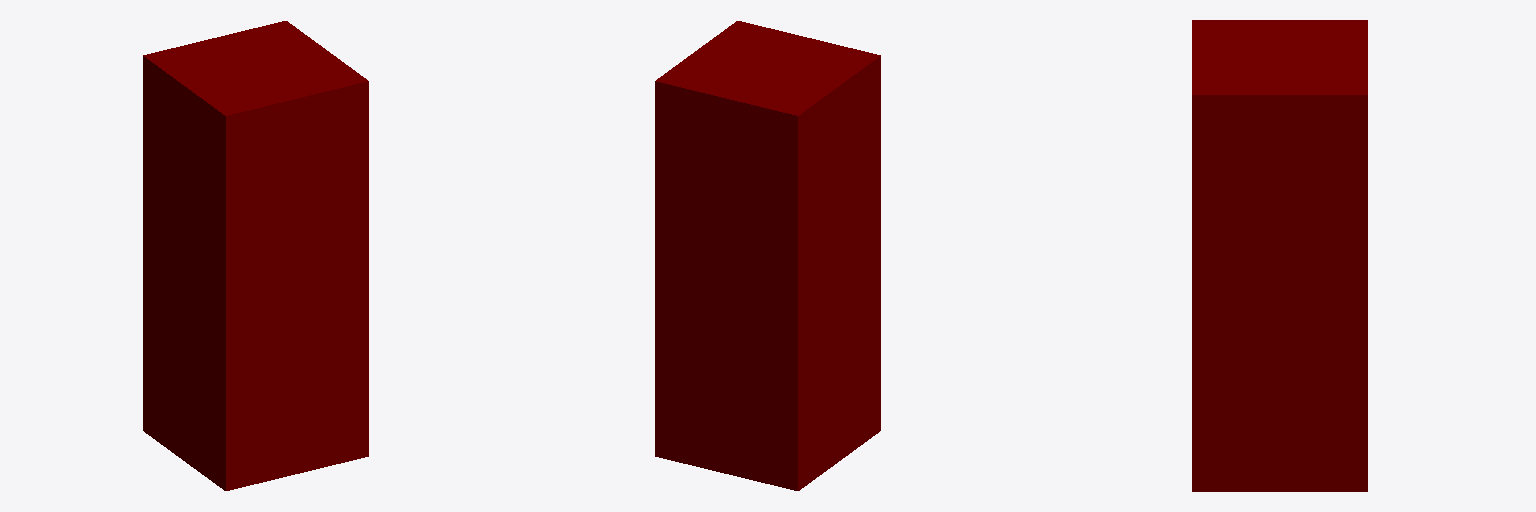
URDF robot description (red_cube):
<?xml version="1.0"?>
<robot name="red_cube">
  <link name="red_cube_link">
  
    <!-- Visualización -->
    <visual>
      <origin xyz="0 0 0" rpy="0 0 0"/>
      <geometry>
        <box size="0.04 0.04 0.1"/> <!-- 4 cm de lado -->
      </geometry>
      <material name="custom_material">
        <color rgba="0.5 0 0 1"/> <!-- Rojo -->
      </material> 
    </visual>

    <!-- Colisión -->
    <collision>
      <origin xyz="0 0 0" rpy="0 0 0"/>
      <geometry>
        <box size="0.04 0.04 0.04"/>
      </geometry>
    </collision>

    <!-- Inercia -->
    <inertial>
      <origin xyz="0 0 0" rpy="0 0 0"/>
      <mass value="0.1"/>
      <inertia ixx="1e-5" ixy="0.0" ixz="0.0"
               iyy="1e-5" iyz="0.0"
               izz="1e-5"/>
    </inertial>

  </link>
</robot>

--- Facts derived from the render (not from the file) ---
3 views of the same robot in one strip: view 1: azimuth 30°, elevation 25°; view 2: azimuth 150°, elevation 25°; view 3: azimuth 270°, elevation 25° (orthographic).
Model red_cube with 1 links and 0 joints (none), rooted at red_cube_link, posed all joints at 0.
Links seen in each view (by area): view 1: red_cube_link; view 2: red_cube_link; view 3: red_cube_link.
Link boxes in pixels (x1=…): red_cube_link: x1=143, y1=21, x2=368, y2=490; red_cube_link: x1=655, y1=21, x2=880, y2=490; red_cube_link: x1=1192, y1=20, x2=1367, y2=491.
Bounding box of the posed robot: 0.04 × 0.04 × 0.1 m (x, y, z).
Geometry: primitives only (box / cylinder / sphere), no mesh files.